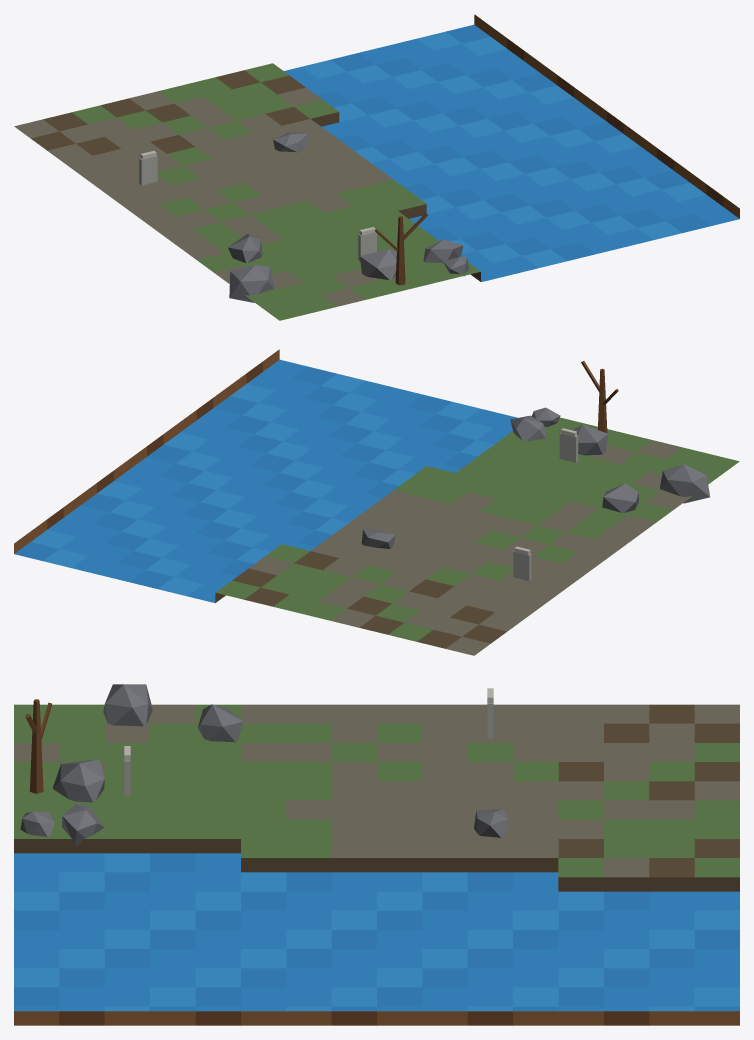
Rendered from chunk_3_19.glb.
The picture shows the model from 3 angles, top to bottom: view 1: azimuth 30°, elevation 25°; view 2: azimuth 150°, elevation 25°; view 3: azimuth 270°, elevation 25°; orthographic projection. The views are drawn at different scales.
Visible parts, largest first — view 1: chunk_3_19; view 2: chunk_3_19; view 3: chunk_3_19.
Part boxes in pixels (left/top/right/bottom): chunk_3_19: left=14, top=14, right=739, bottom=320; chunk_3_19: left=14, top=349, right=739, bottom=655; chunk_3_19: left=14, top=684, right=739, bottom=1025.
Size of the model in its own units: 16.36 by 2.75 by 16.
